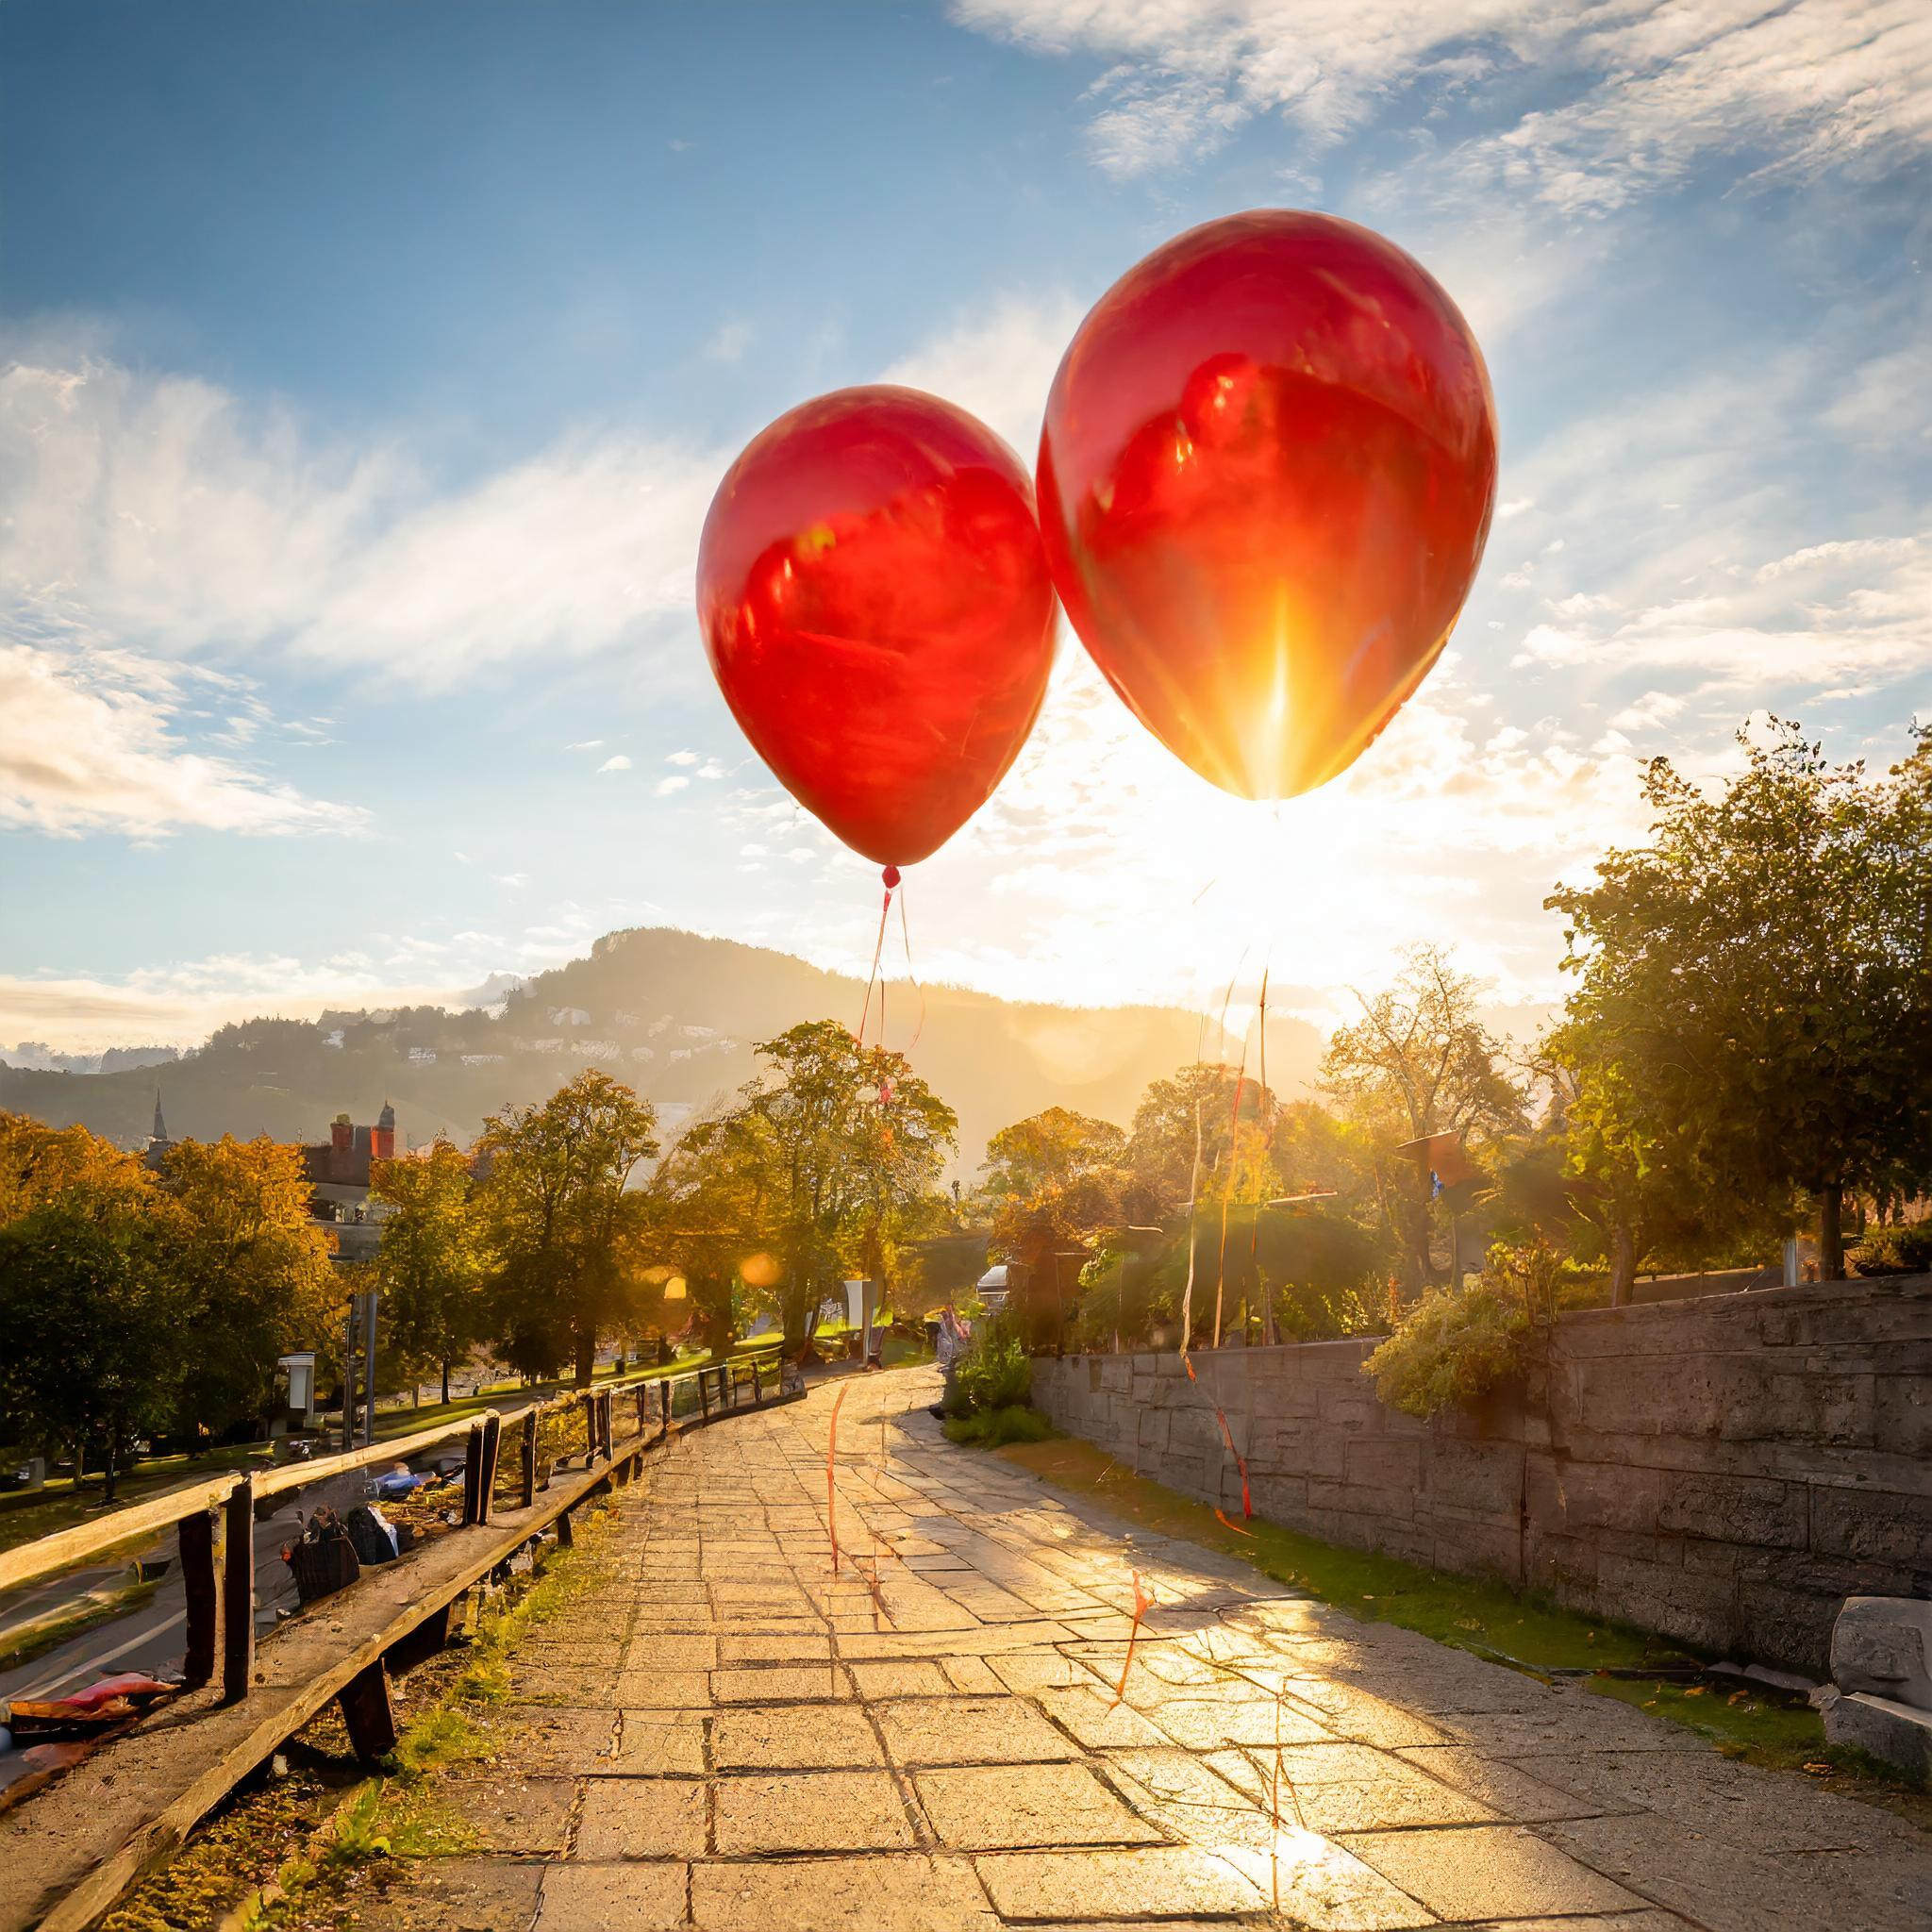red: (1030, 189, 1509, 824), (676, 368, 1070, 915)
